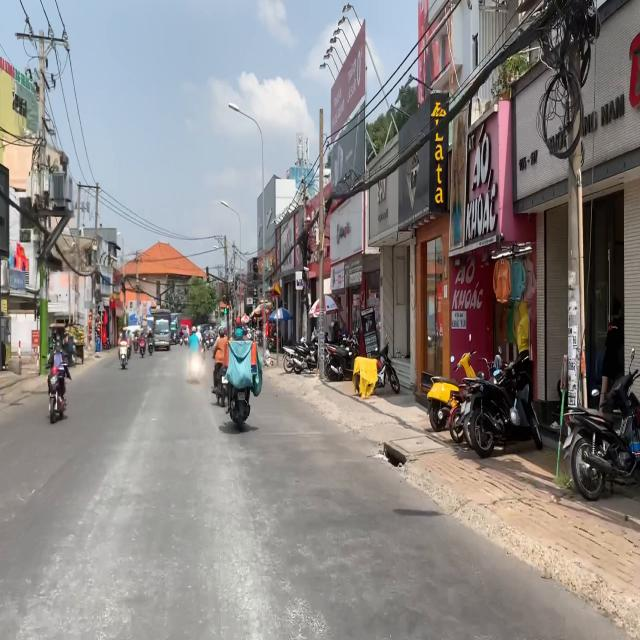Nguy hiem: (271, 281, 282, 297)
